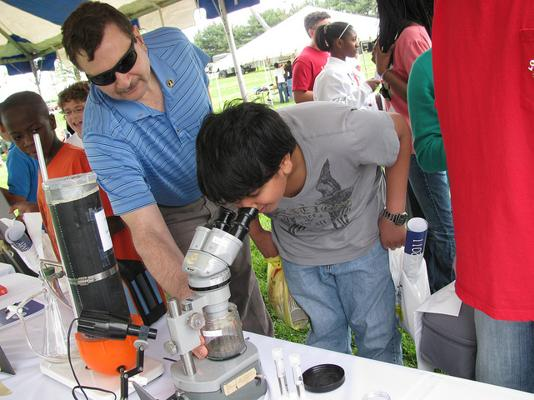person: (195, 102, 413, 368)
